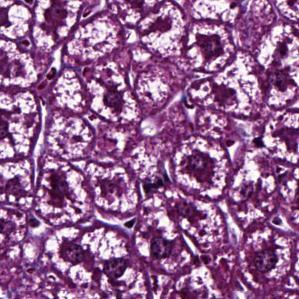inflammation: (35, 160, 94, 225), (186, 22, 238, 73)
